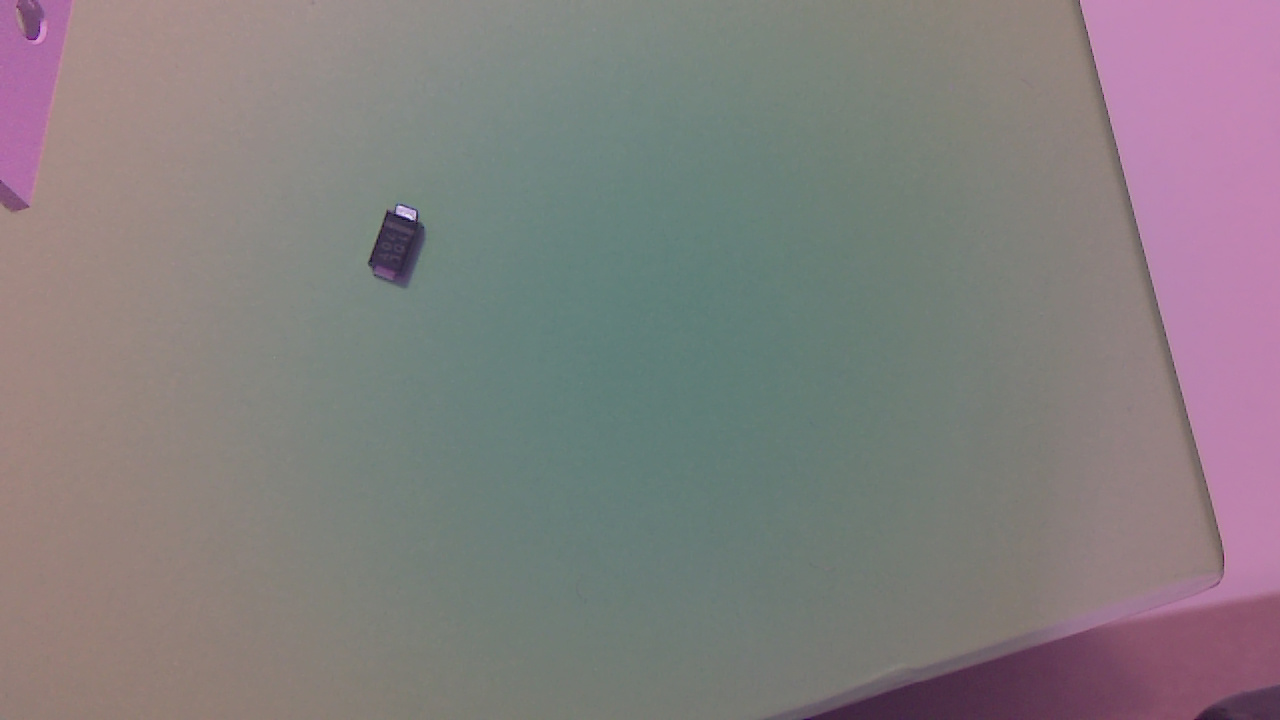Diode: (367, 204, 435, 289)
